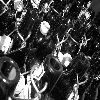beer: (30, 51, 66, 100)
